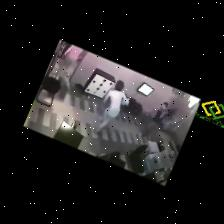person: (94, 80, 128, 132)
